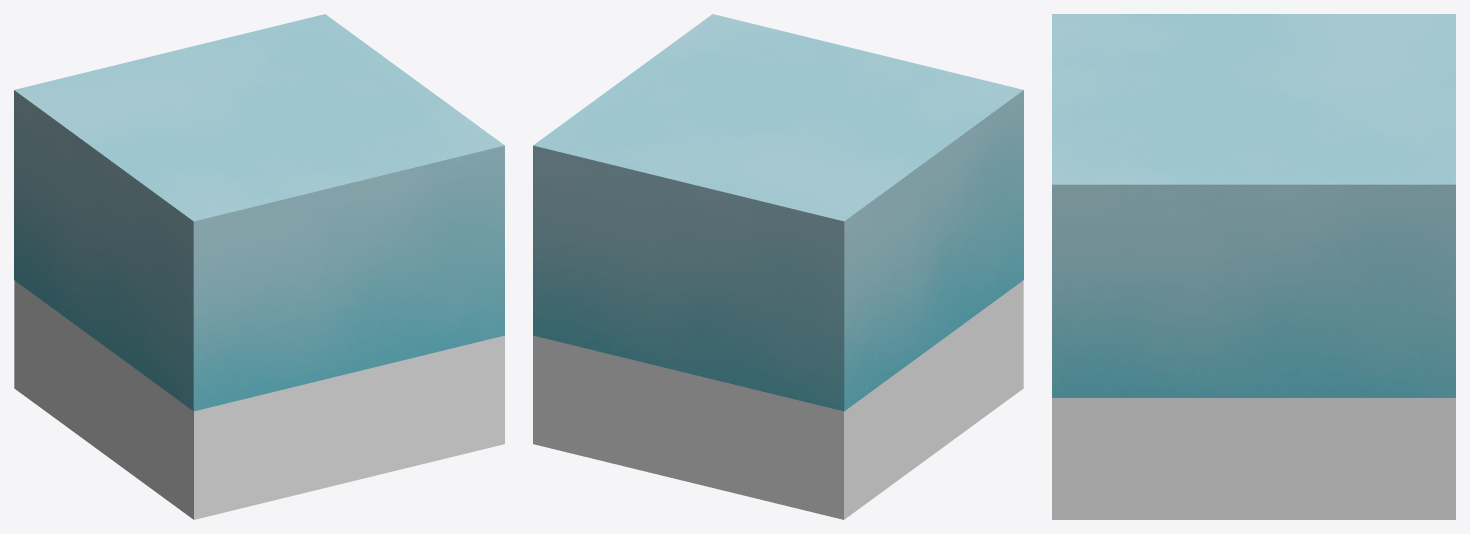
File: ICECUBE.fbx
3 views of the same model, side by side, from view 1: azimuth 30°, elevation 25°; view 2: azimuth 150°, elevation 25°; view 3: azimuth 270°, elevation 25° (orthographic). The views are drawn at different scales.
Visible parts, largest first — view 1: ice2, cube6, cube7, cube8, cube3, cube2, cube5, cube1, cube4, cube; view 2: ice2, cube2, cube1, cube, cube6, cube3, cube7, cube5, cube4, cube8; view 3: ice2, cube5, cube8, cube, cube4, cube3, cube7, cube6, cube2, cube1.
Boxes of the visible parts, x1,y1,x2,y2 form: ice2: (14,280,504,519); cube6: (133,152,297,411); cube7: (238,127,401,385); cube8: (342,101,504,360); cube3: (74,108,236,366); cube2: (14,64,177,323); cube5: (281,58,444,126); cube1: (118,39,280,108); cube4: (178,83,340,152); cube: (222,14,384,82); ice2: (533,280,1023,519); cube2: (740,152,904,411); cube1: (636,127,799,385); cube: (533,101,695,360); cube6: (860,64,1023,323); cube3: (801,108,963,366); cube7: (757,39,919,108); cube5: (593,58,756,126); cube4: (697,83,859,152); cube8: (653,14,815,82); ice2: (1052,398,1455,519); cube5: (1186,127,1321,397); cube8: (1052,127,1186,397); cube: (1321,127,1455,397); cube4: (1186,71,1321,127); cube3: (1186,14,1321,70); cube7: (1052,71,1186,127); cube6: (1052,14,1186,70); cube2: (1321,14,1455,70); cube1: (1321,71,1455,127).
Size of the model in its own units: 12 by 11 by 12.
2 materials, 1 textured.
